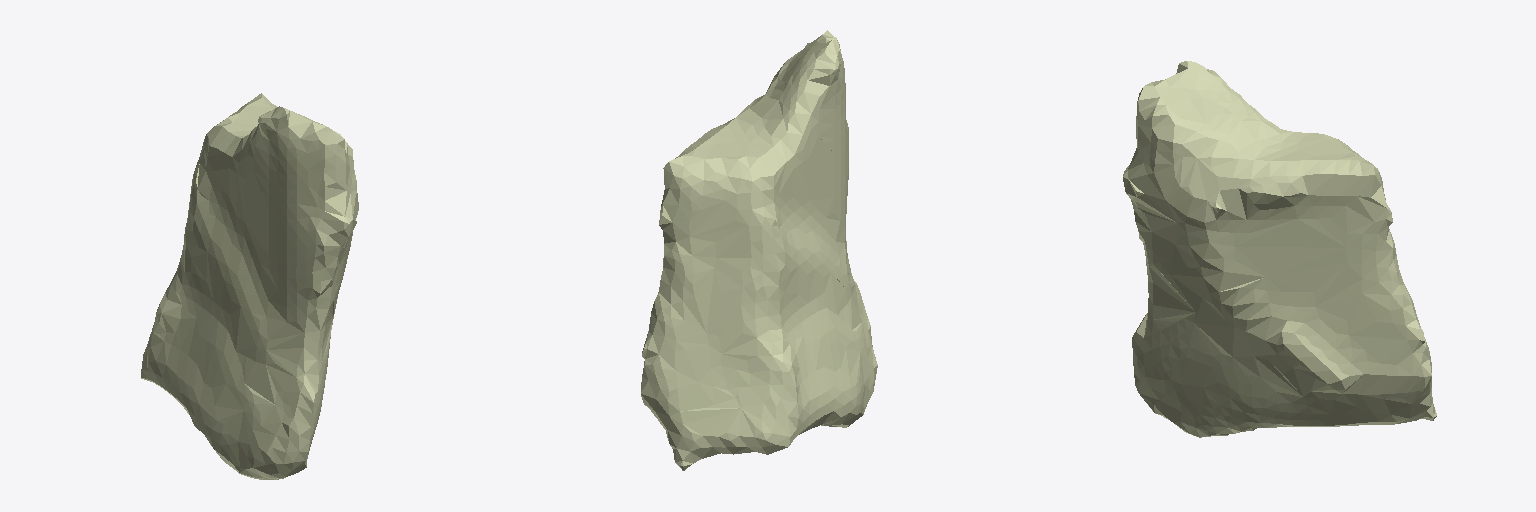
Rendered from Model_10045_LH__Area_13a_of_cortex_(A13a).obj.
3 renders of one model, left to right at view 1: azimuth 30°, elevation 25°; view 2: azimuth 150°, elevation 25°; view 3: azimuth 270°, elevation 25°, orthographic.
Size of the model in its own units: 0.9866 by 2.54 by 1.94.